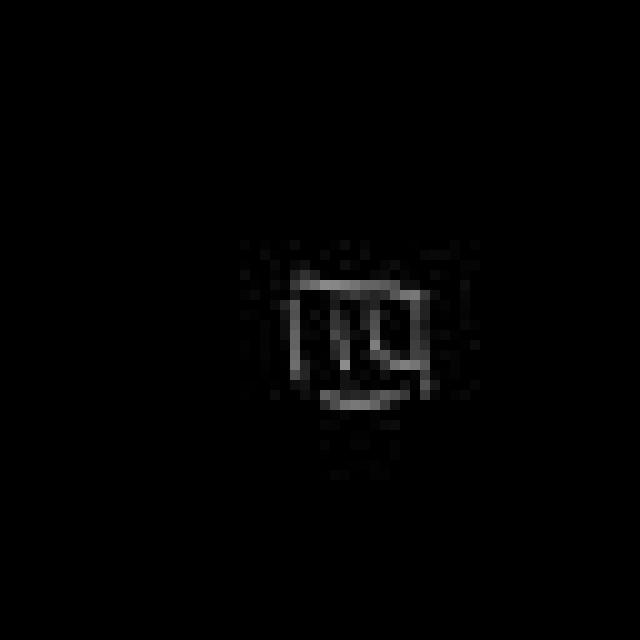4 -four-: (272, 261, 444, 437)
